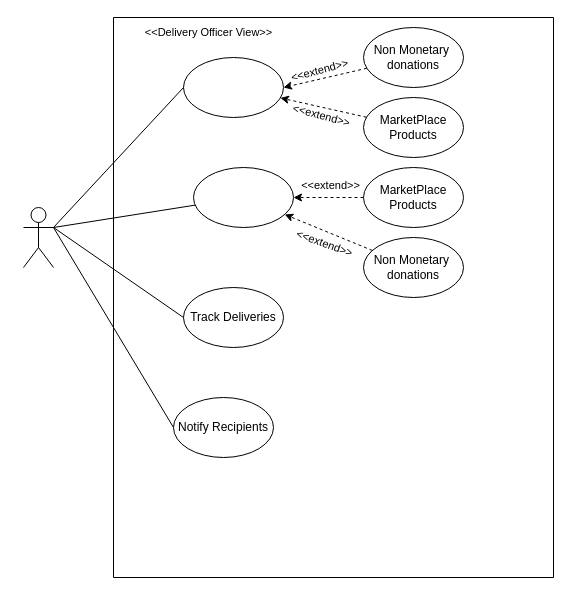
This 571x595 diagram has some shape labels left out. The centre of each missing label's shape, as x and y in pixels:
"Delivery Officer" goes at point (38, 237).
"Schedule Drop Offs" goes at point (243, 197).
"Schedule Pick Ups" goes at point (233, 87).
